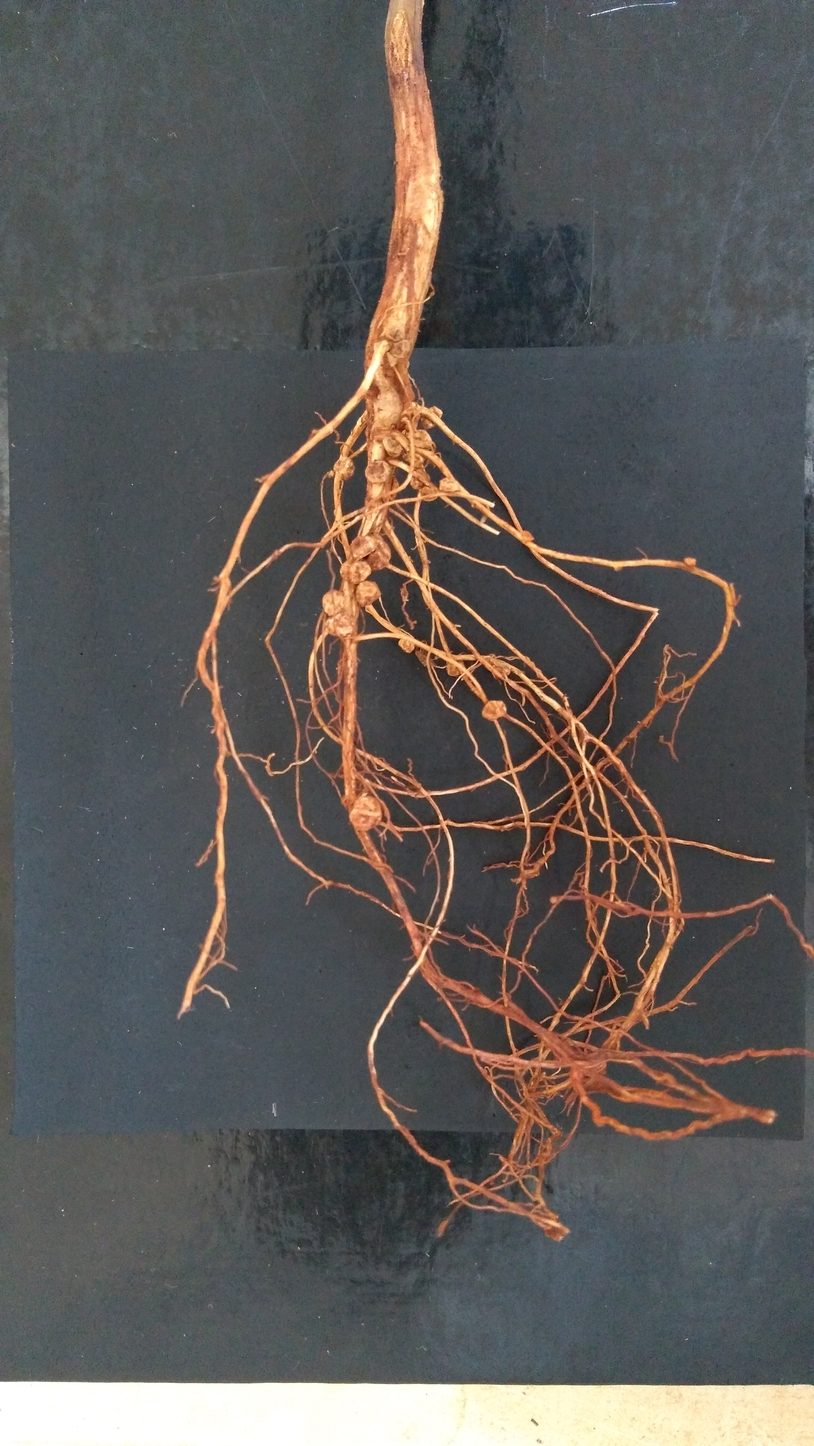nodule: (373, 365, 401, 440), (350, 534, 391, 571), (349, 795, 382, 832), (340, 558, 371, 584), (325, 612, 355, 637), (530, 1204, 557, 1230), (356, 580, 381, 608), (401, 428, 434, 449), (365, 460, 391, 484), (322, 589, 344, 616), (381, 474, 399, 505), (402, 402, 421, 431), (333, 457, 355, 481), (543, 1222, 569, 1242), (382, 435, 405, 457), (482, 701, 507, 721), (421, 406, 443, 428), (389, 338, 411, 360), (410, 467, 430, 489), (385, 320, 405, 342), (402, 449, 425, 467), (446, 658, 465, 677), (419, 484, 439, 501), (439, 478, 461, 492), (398, 638, 415, 653), (491, 664, 510, 677), (520, 531, 534, 542), (684, 557, 696, 567)
